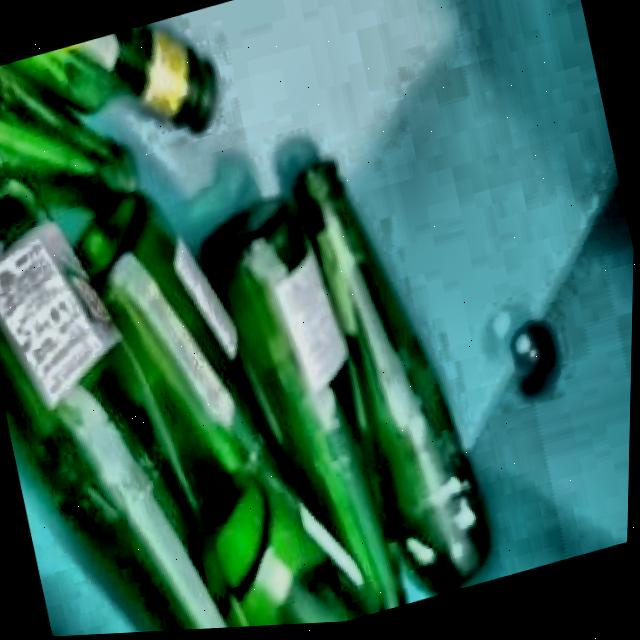glass: (0, 25, 491, 633)
